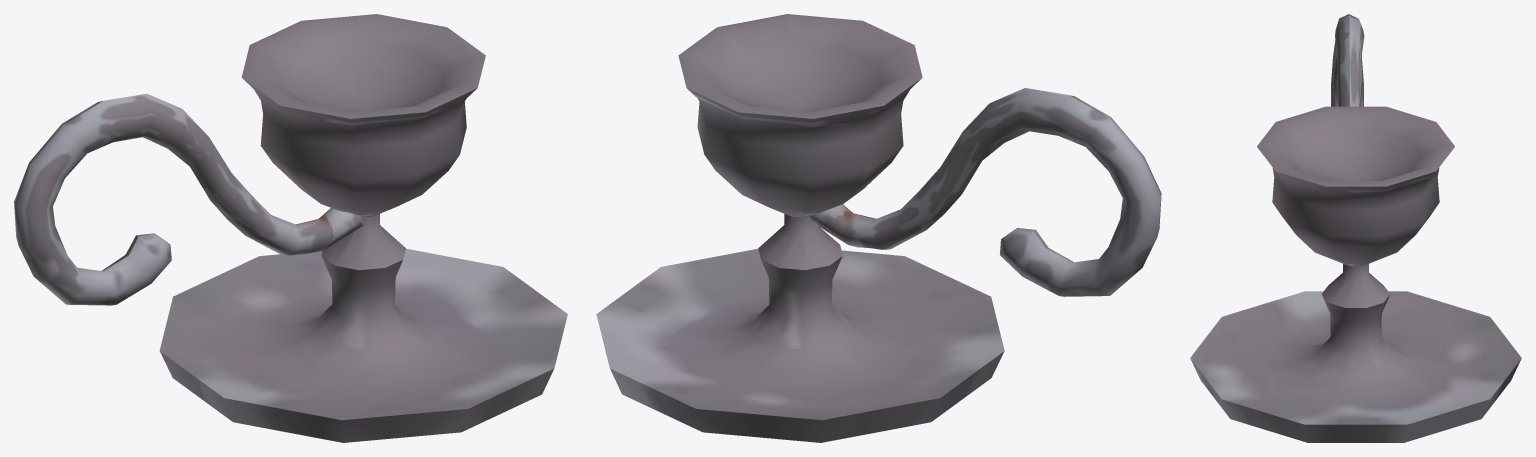
File: CandleStick.gltf
3 renders of one model, left to right at view 1: azimuth 30°, elevation 25°; view 2: azimuth 150°, elevation 25°; view 3: azimuth 270°, elevation 25°, orthographic. The views are drawn at different scales.
Parts seen in each view (by area): view 1: CandleStick; view 2: CandleStick; view 3: CandleStick.
Part boxes in pixels (bbox=[...]): CandleStick: bbox=[14, 14, 567, 442]; CandleStick: bbox=[596, 14, 1161, 442]; CandleStick: bbox=[1190, 14, 1521, 442].
Size of the model in its own units: 0.2609 by 0.1552 by 0.1794.
Materials: 1 (1 with a texture image).
